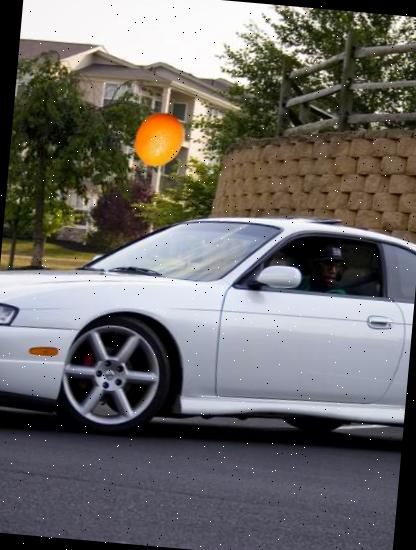Lemon: (127, 109, 190, 172)
